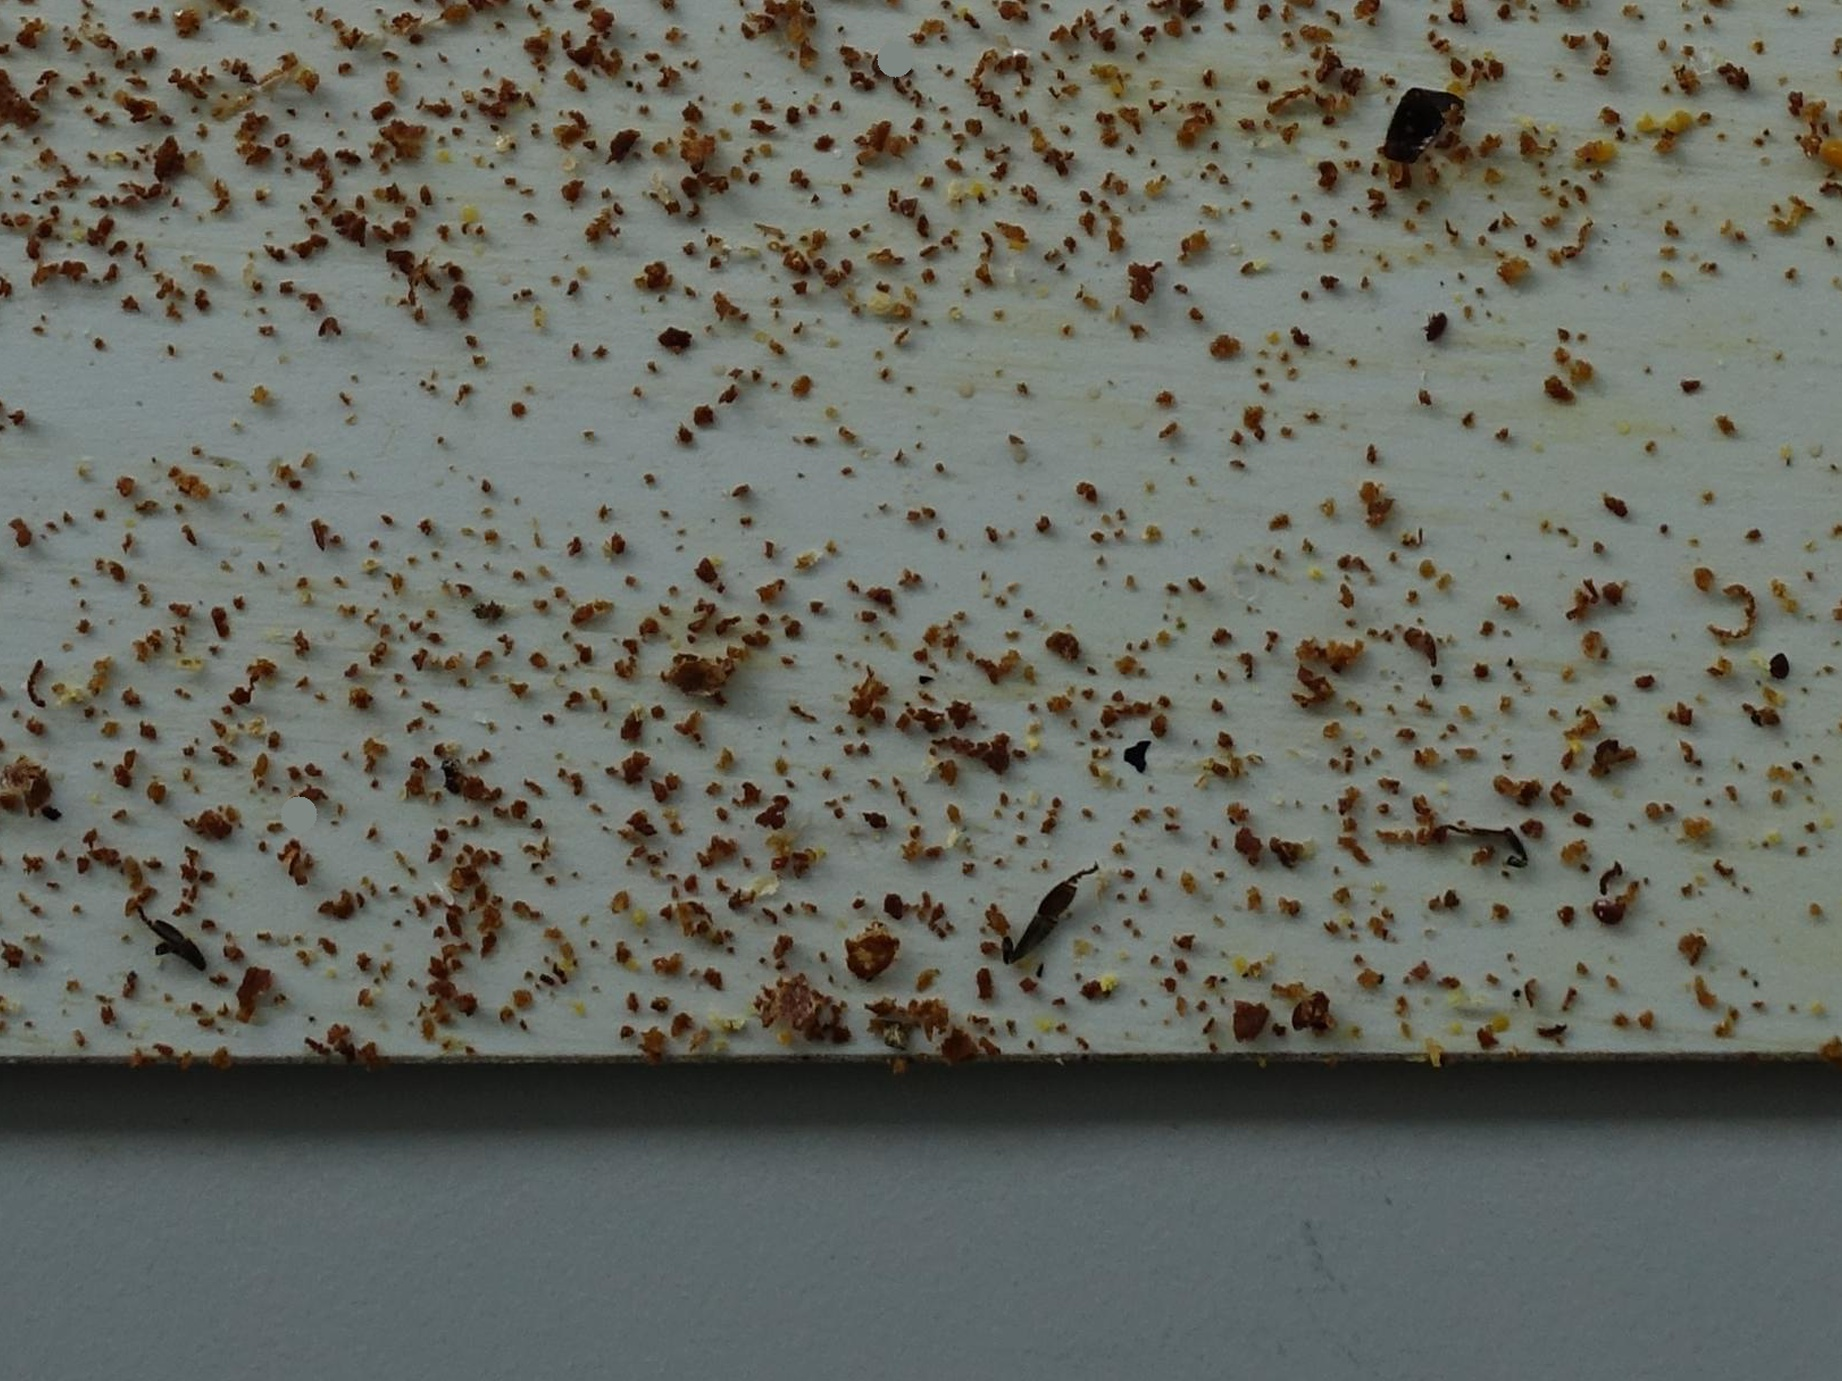Varroa: (1595, 899, 1623, 928), (1420, 315, 1447, 342), (1292, 997, 1317, 1026), (873, 48, 896, 75), (1778, 659, 1790, 672)
